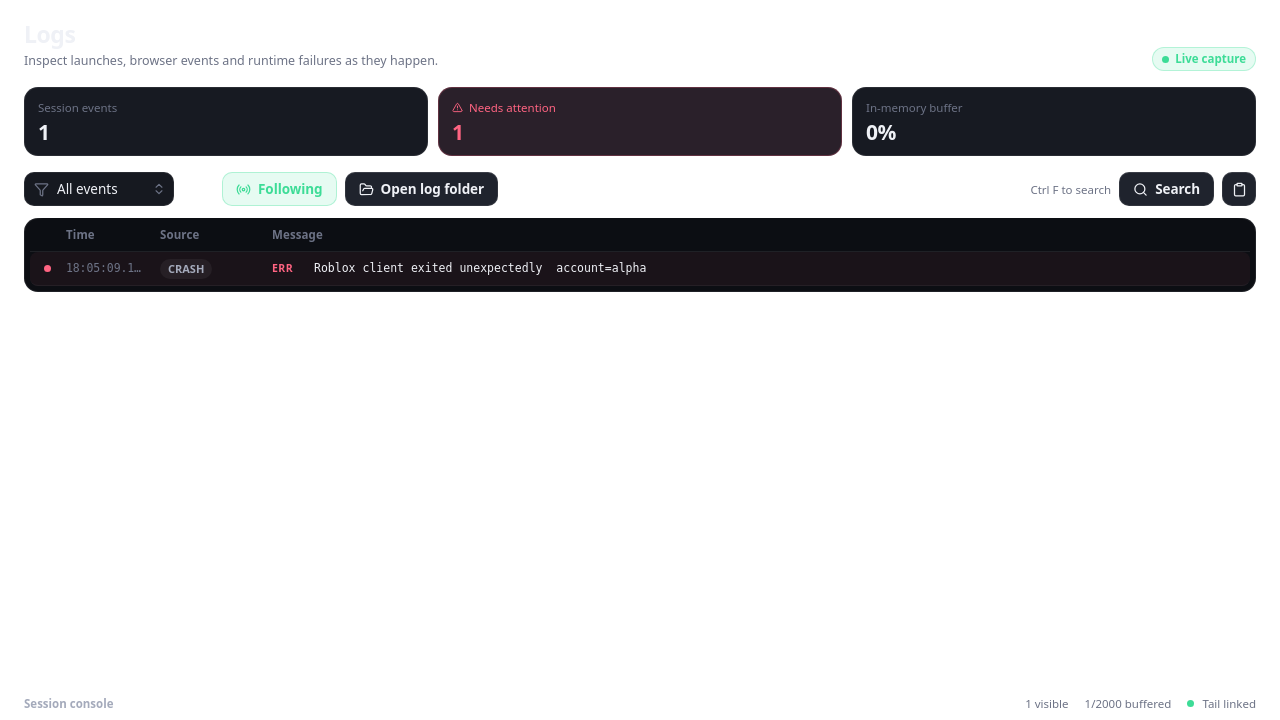
Test: LogsPage operational console › filters operational rows and opens the searchable console toolbar
Check: the element named "Session log" shows "Roblox client exited unexpectedly", box [314,261,646,275]
Click the dropdown named "Filter log level" at (99, 189), box [24,172,174,206]
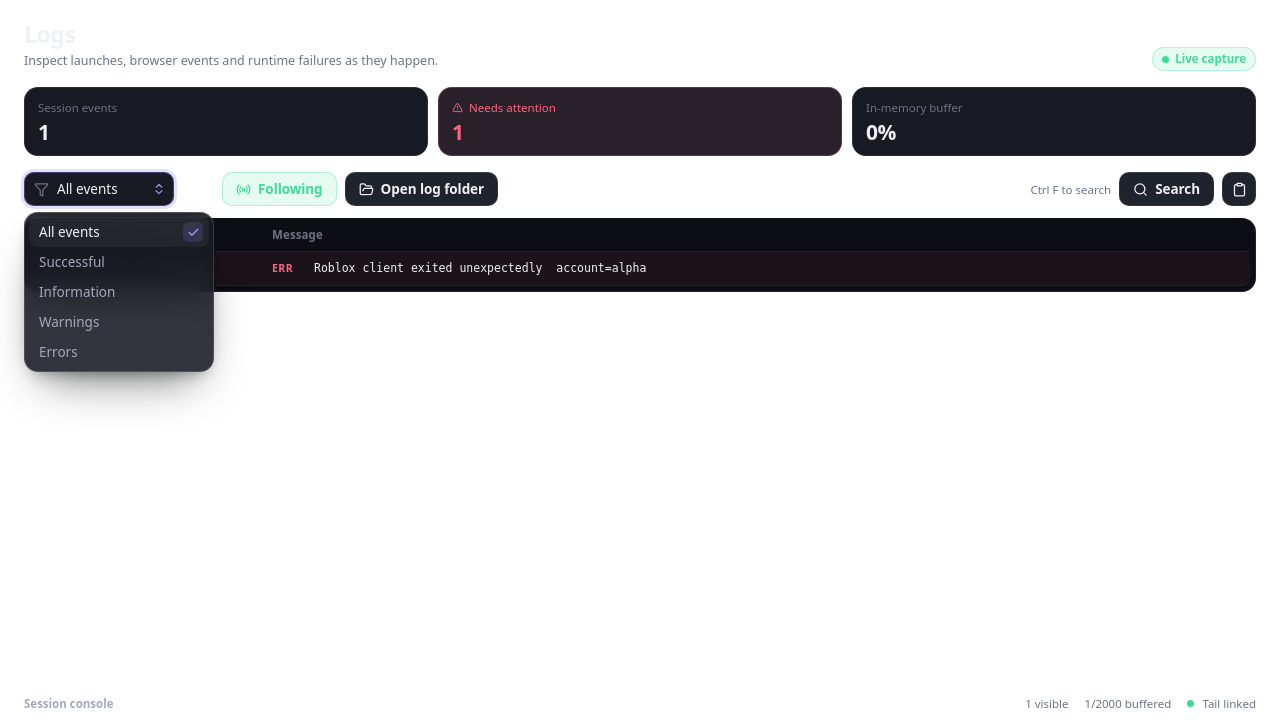
Click the option "Information" at (119, 292), box [29,277,209,307]
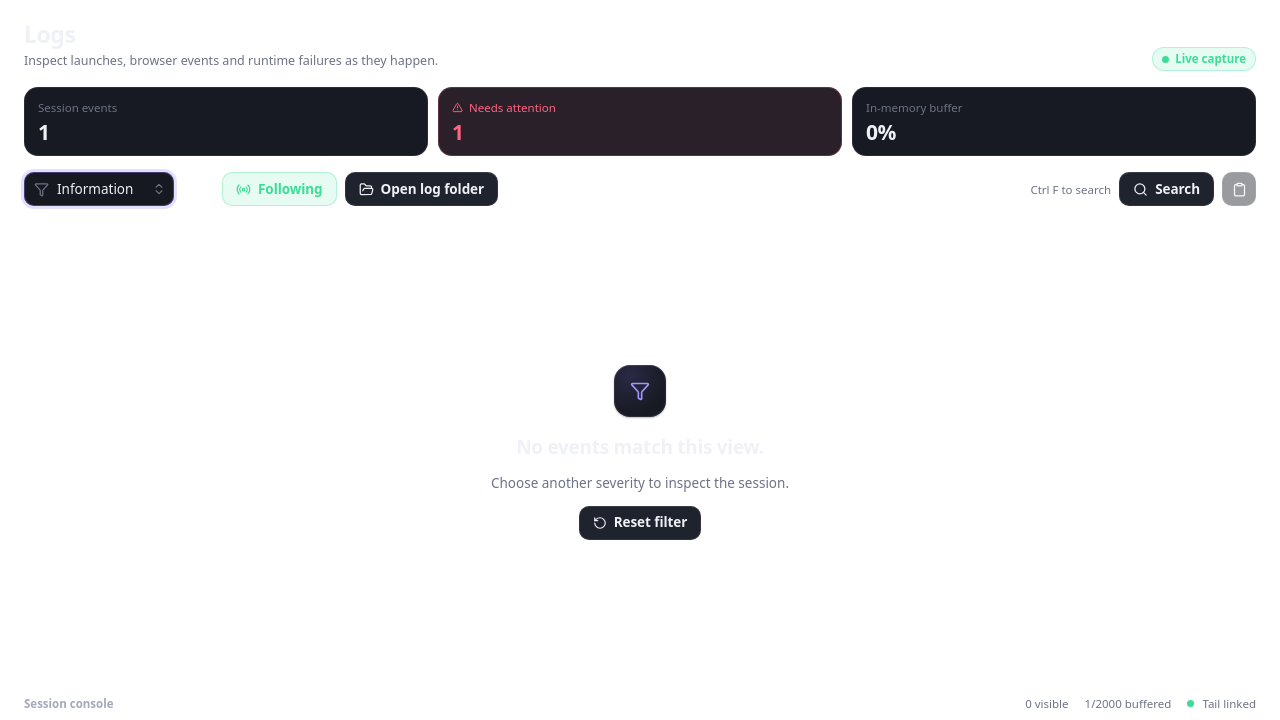
Click the button "Reset filter" at (640, 523), box [579,506,701,540]
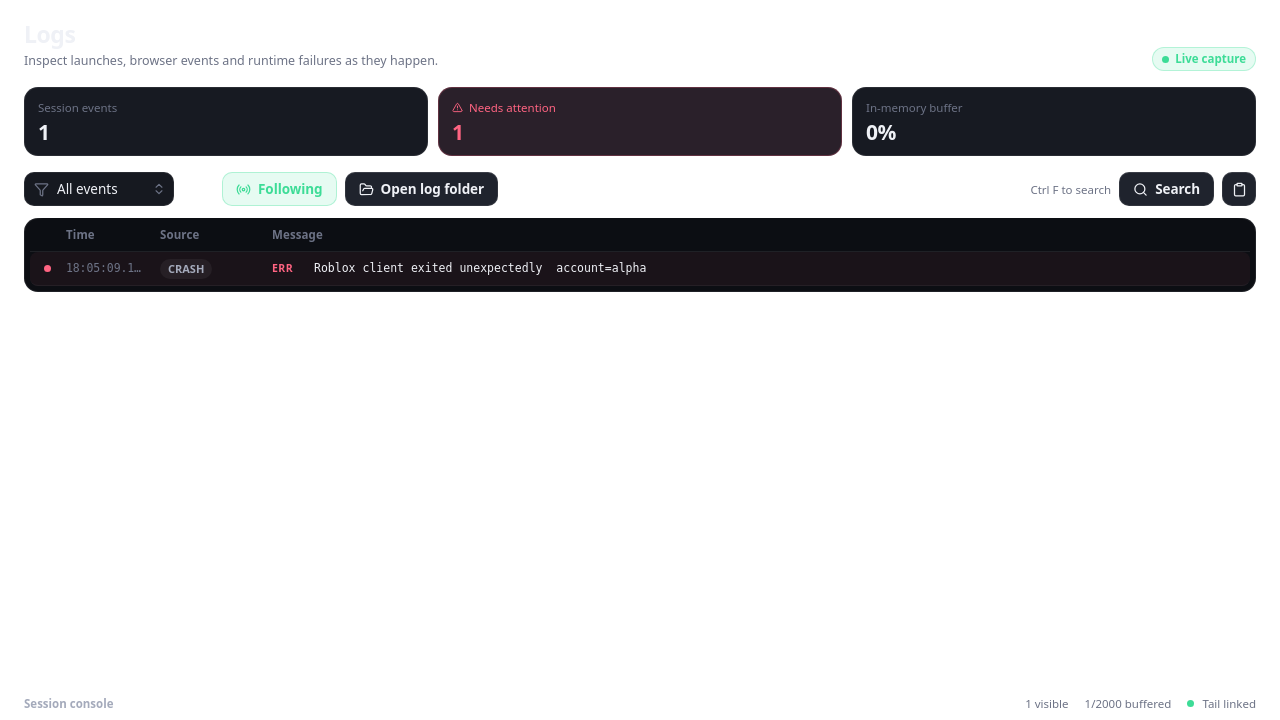
Click the button "Search" at (1167, 189), box [1119,172,1214,206]
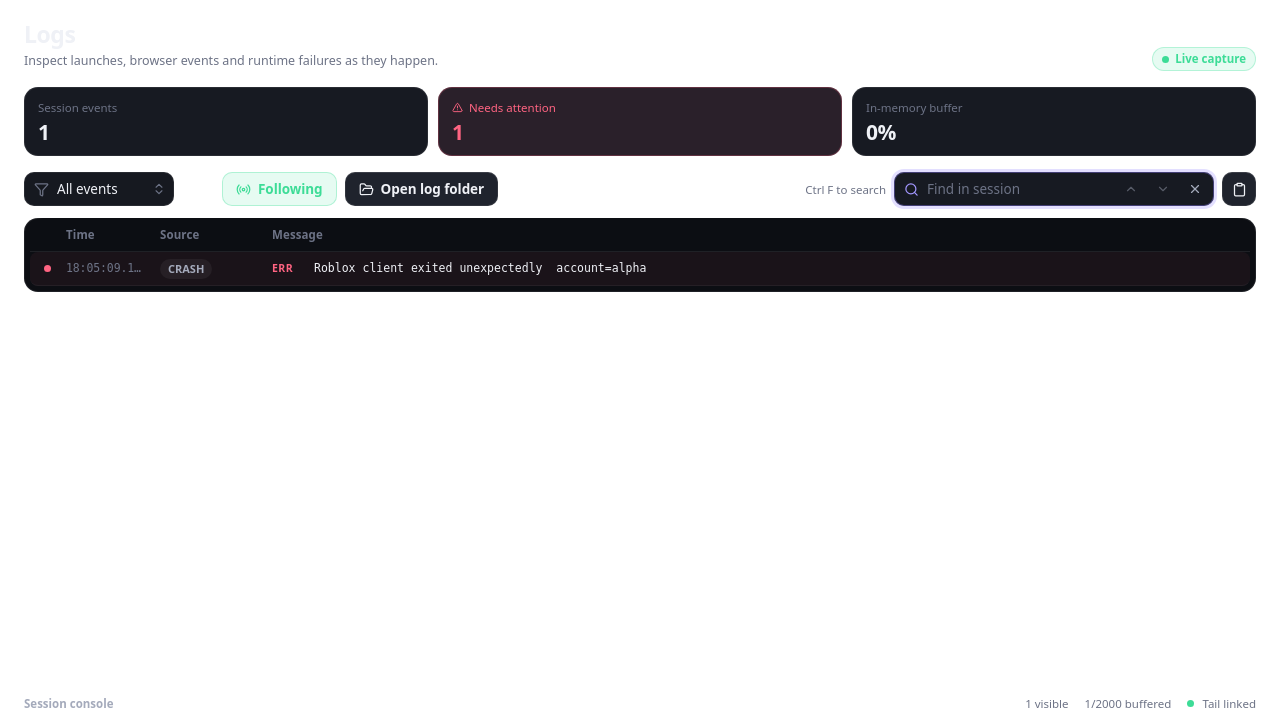
Check: the field named "Find in log" is shown, box [925,178,1072,201]
